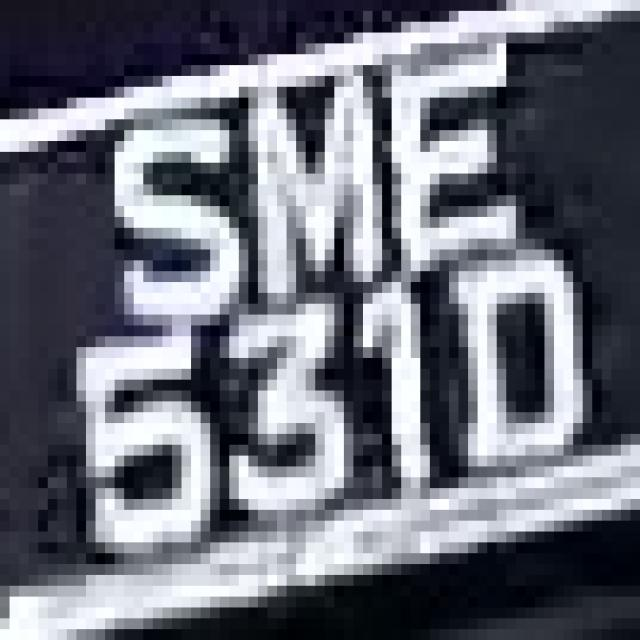1: (344, 260, 449, 532)
3: (210, 293, 363, 542)
5: (48, 315, 210, 564)
D: (458, 217, 612, 521)
E: (363, 33, 544, 271)
M: (201, 32, 382, 326)
S: (86, 87, 248, 347)
